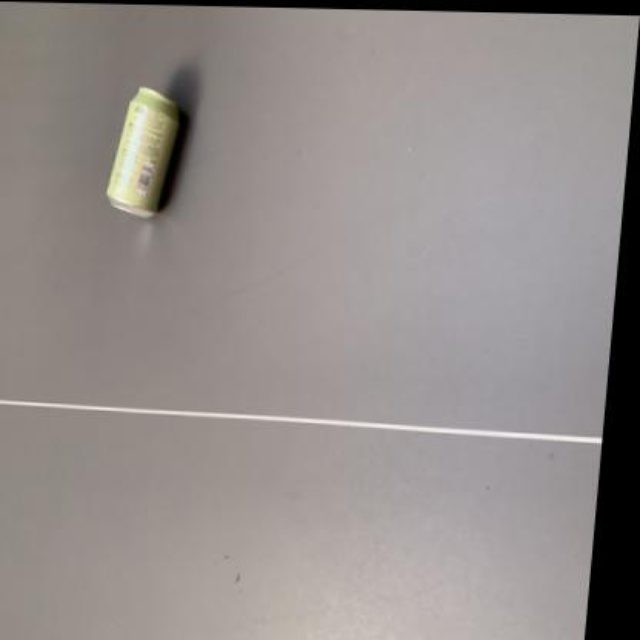trash: (106, 86, 177, 217)
